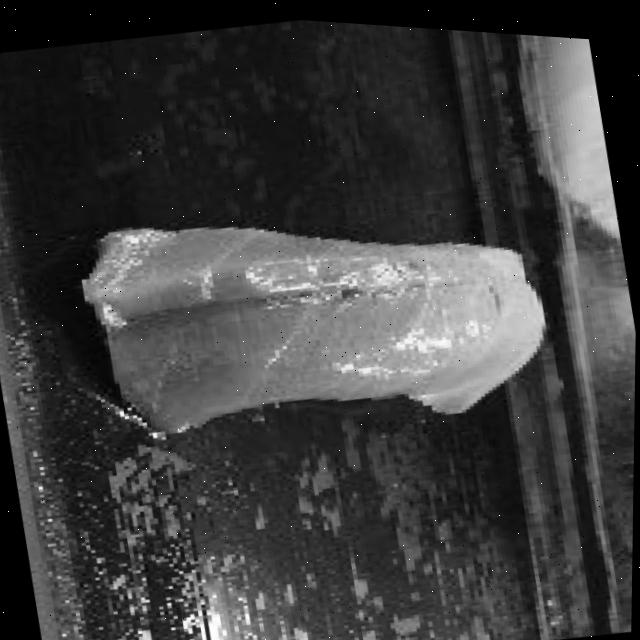寿司卷物: (48, 131, 586, 498)
